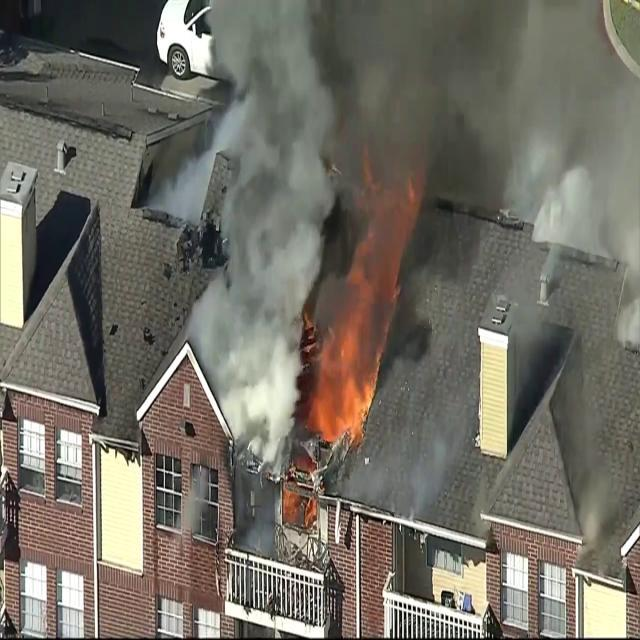Fire: (308, 312, 379, 452)
Smoke: (192, 0, 638, 435)
